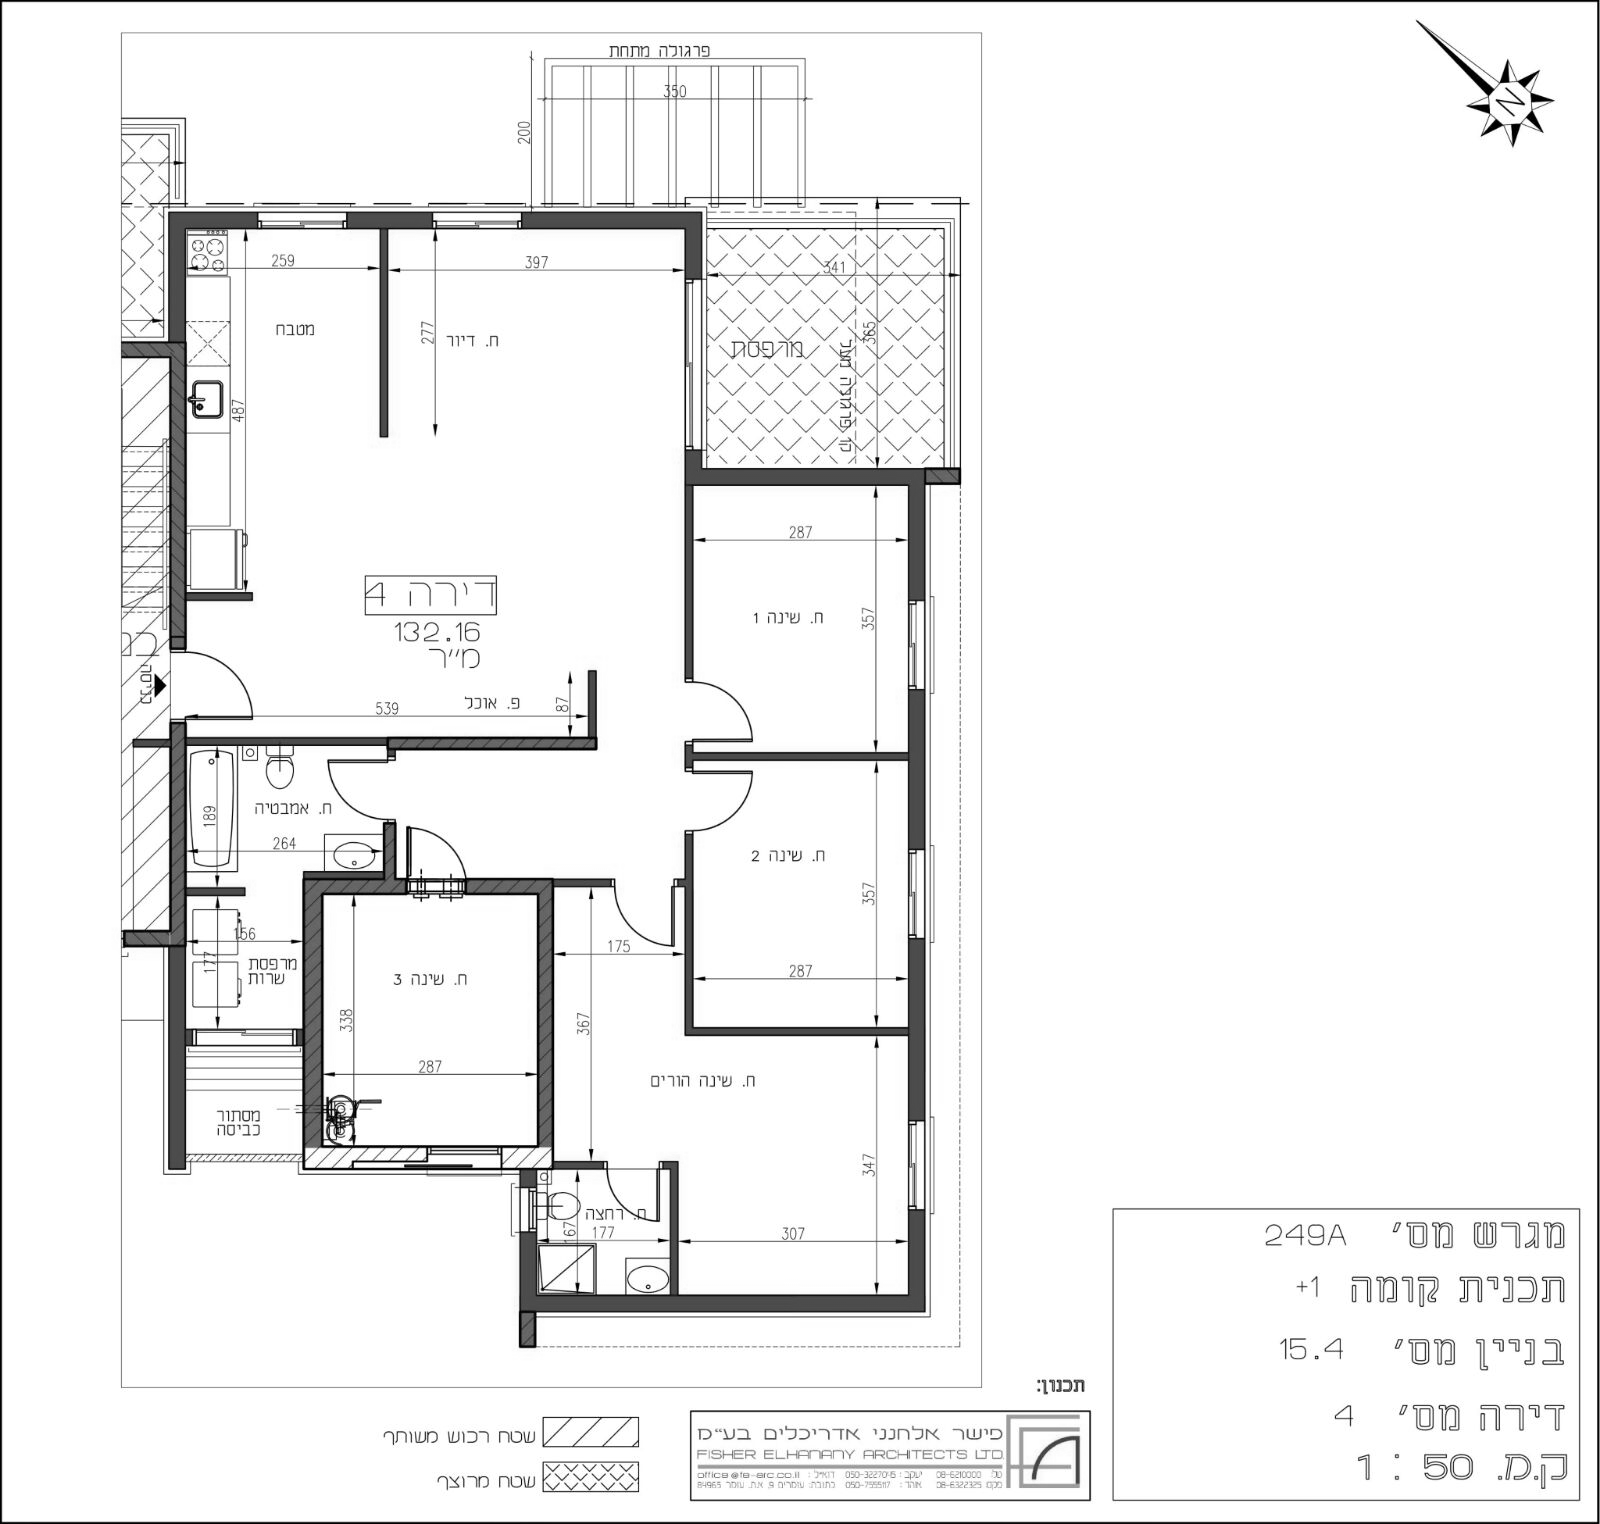door: (184, 644, 259, 726), (320, 751, 390, 827), (693, 766, 771, 833), (606, 891, 683, 958), (401, 807, 479, 874), (699, 674, 759, 750), (686, 468, 926, 486), (907, 690, 931, 851)
window: (683, 279, 706, 450), (904, 851, 930, 943), (904, 1121, 930, 1213), (907, 598, 933, 688), (431, 213, 521, 229), (257, 213, 346, 229)
